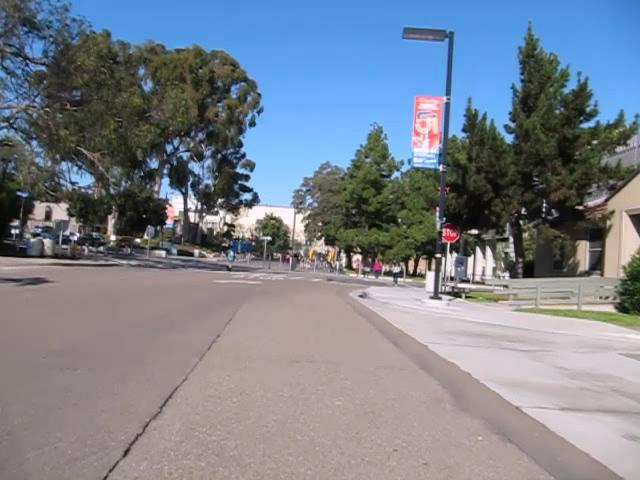stop: (440, 221, 460, 243)
